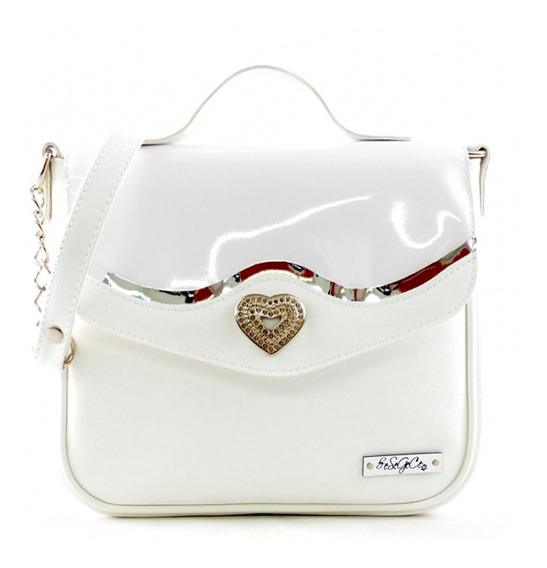cartera: (24, 63, 493, 528)
